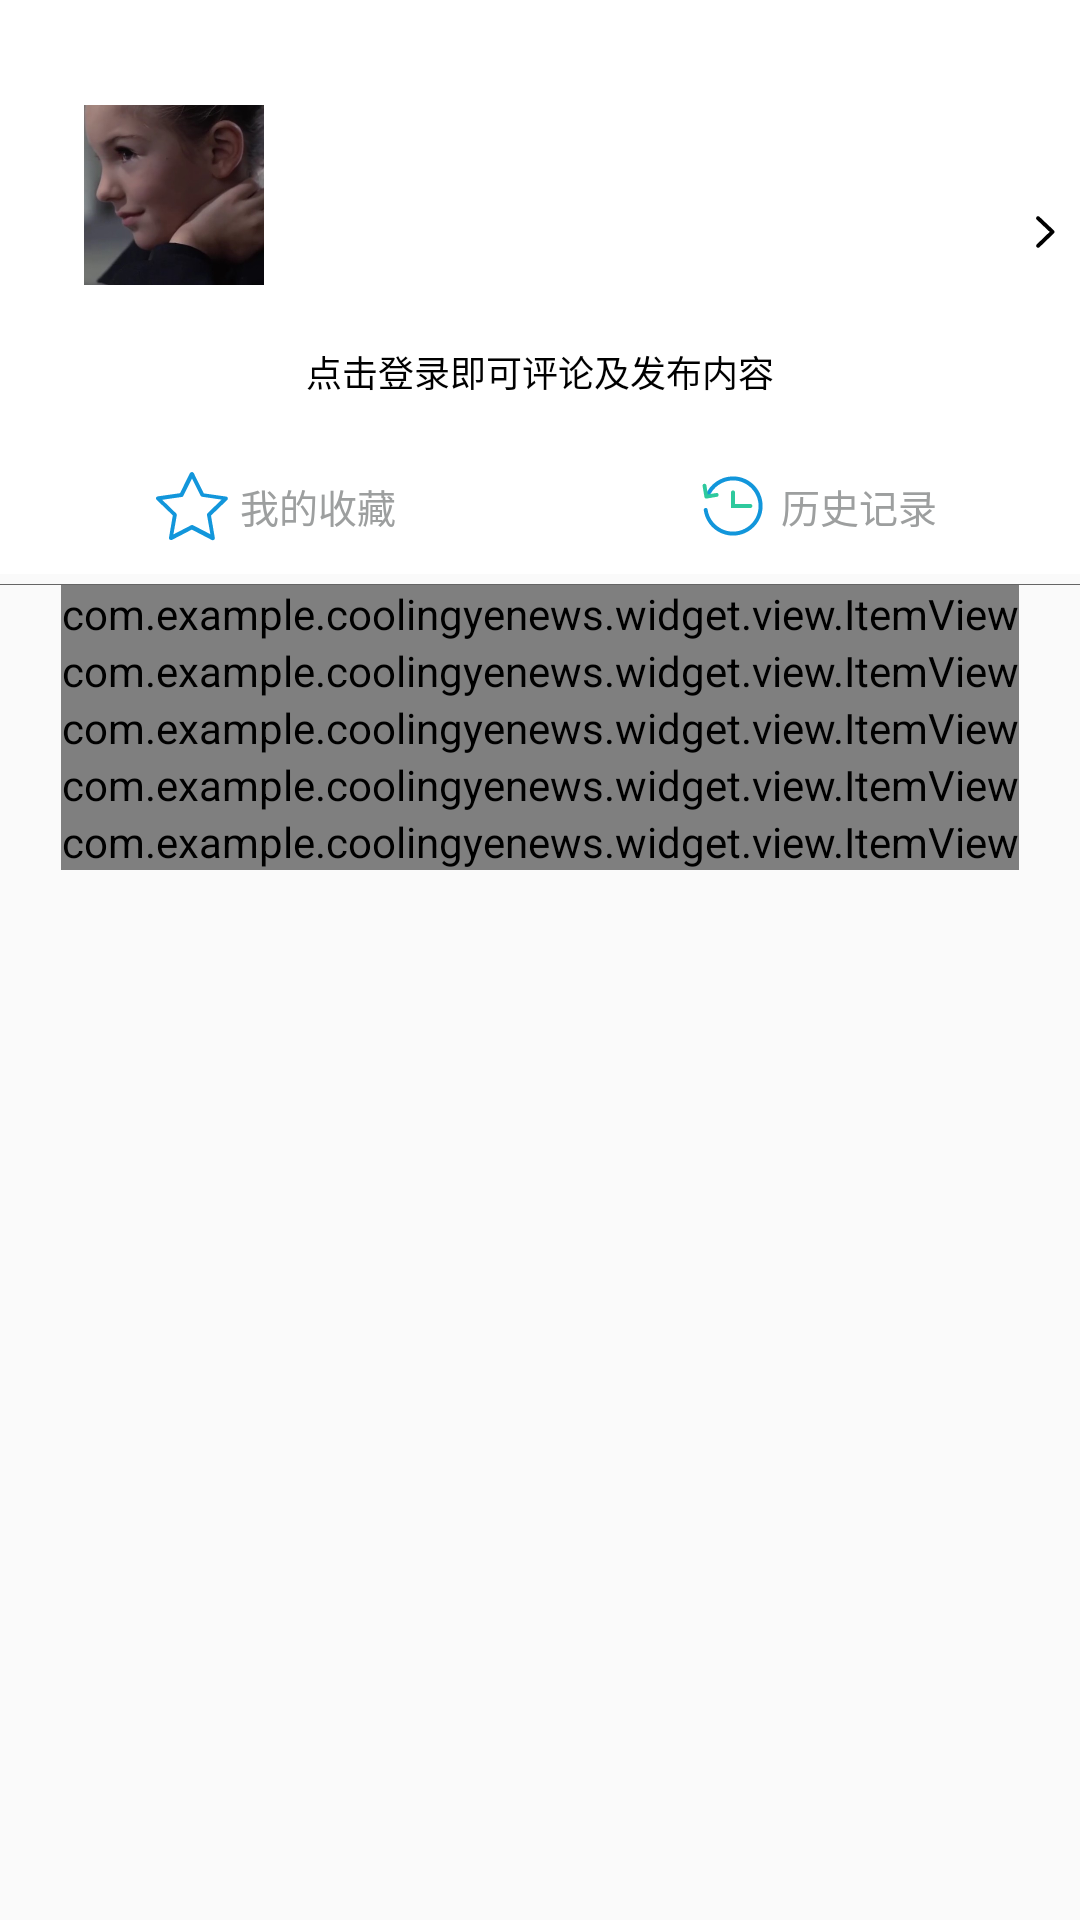

Locate icon controls on the screen. Image size 1080x1920, boxes as bbox(x1, y1, x2, y2).
enter: bbox(1036, 216, 1055, 248)
